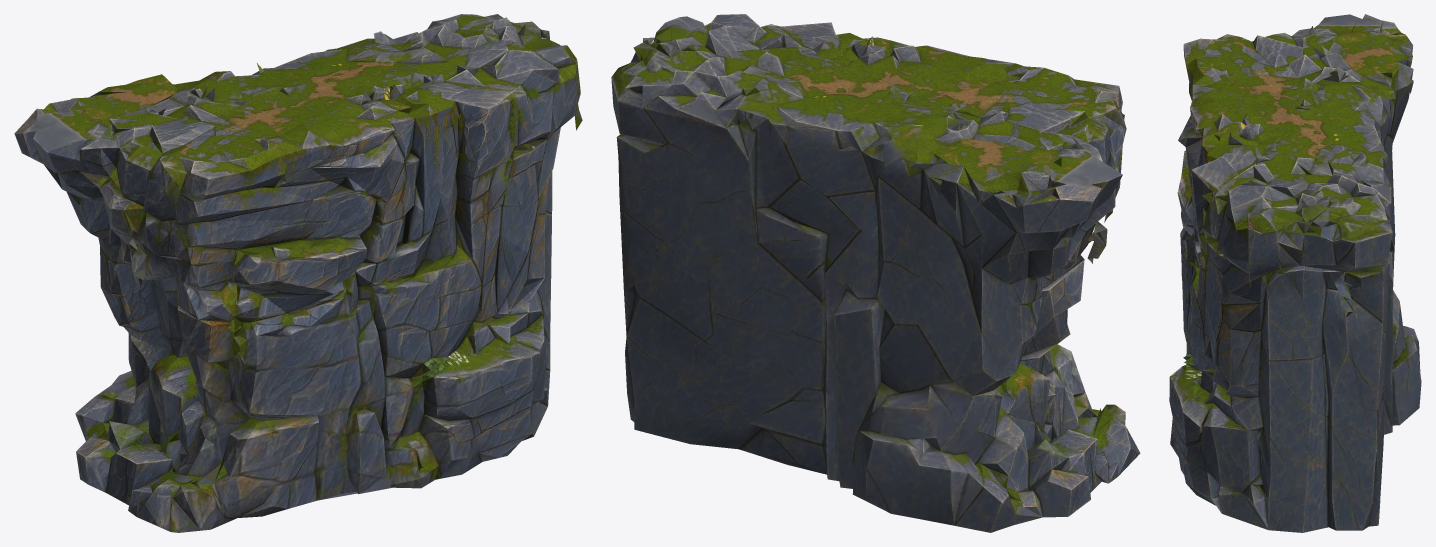
The model's file is cliff_rock.glb.
3 renders of one model, left to right at view 1: azimuth 30°, elevation 25°; view 2: azimuth 150°, elevation 25°; view 3: azimuth 270°, elevation 25°, orthographic. The views are drawn at different scales.
Visible parts, largest first — view 1: Mesh_0; view 2: Mesh_0; view 3: Mesh_0.
Boxes of the visible parts, x1,y1,x2,y2 form: Mesh_0: [14, 14, 582, 532]; Mesh_0: [611, 14, 1140, 532]; Mesh_0: [1169, 14, 1421, 532].
Bounding box in the file's own units: 1.88 × 1.36 × 0.9234.
Materials: 1 (1 with a texture image).
